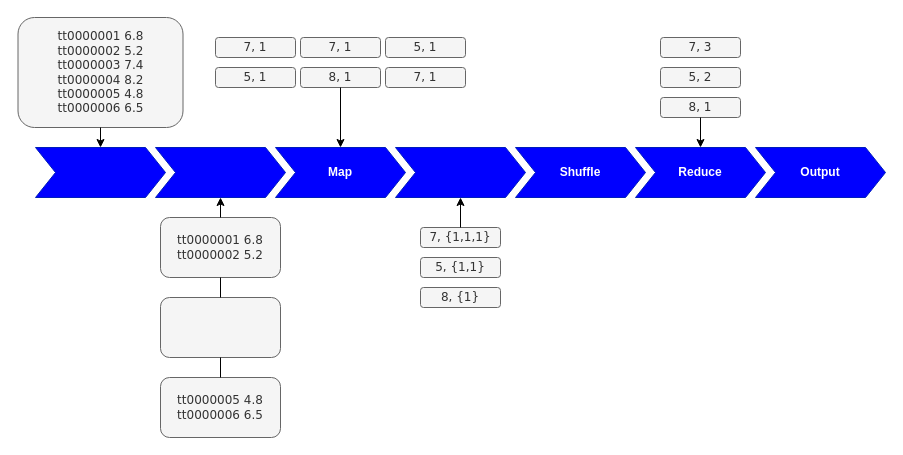
The diagram is 903 pixels wide and 455 high, and some of its shapes have lost their labels. Here are the shapes that lost their labels. From the top down, the box of each, then its label:
(34, 146, 166, 198): Input
(154, 146, 286, 198): Split
(394, 146, 526, 198): Combine
(160, 296, 280, 358): tt 0000003 7.4 tt 0000004 8.2
